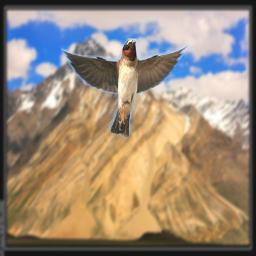Swallow: (61, 38, 191, 137)
